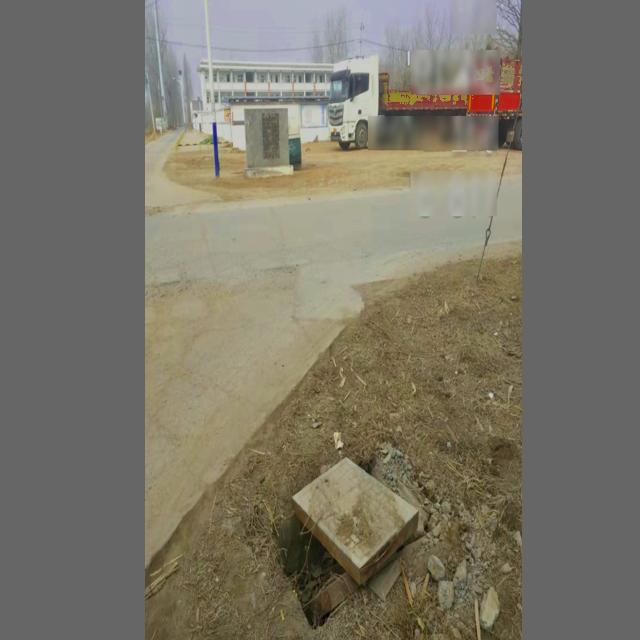circle: (264, 437, 440, 640)
